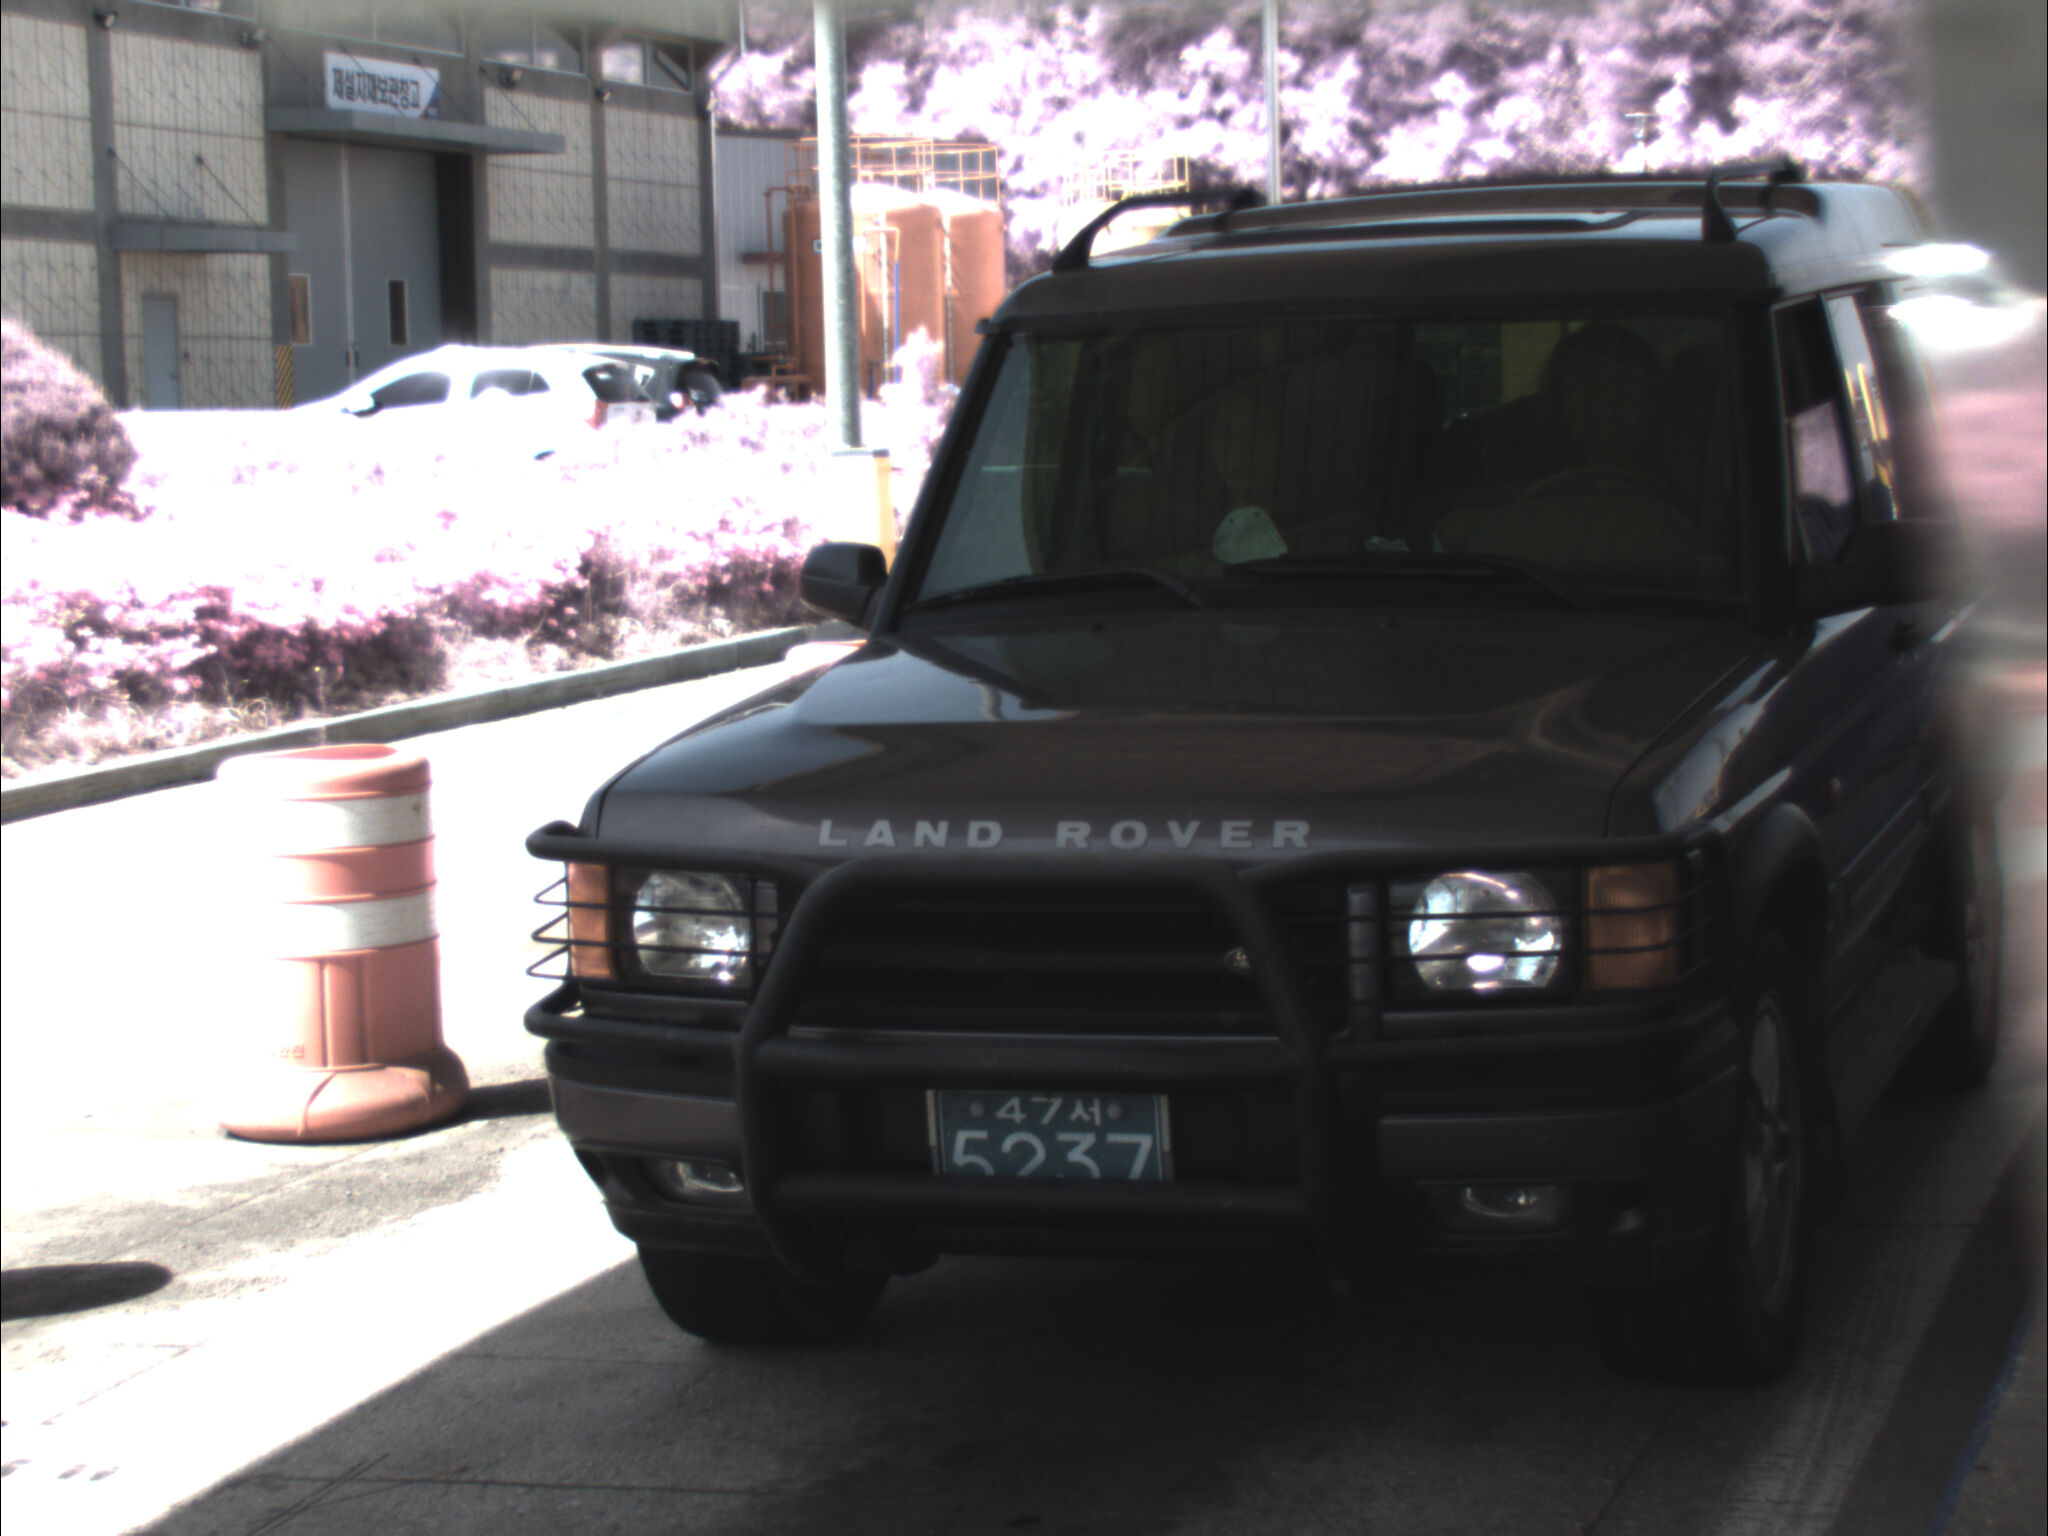car: (524, 172, 2013, 1394)
plate: (916, 1077, 1180, 1189)
